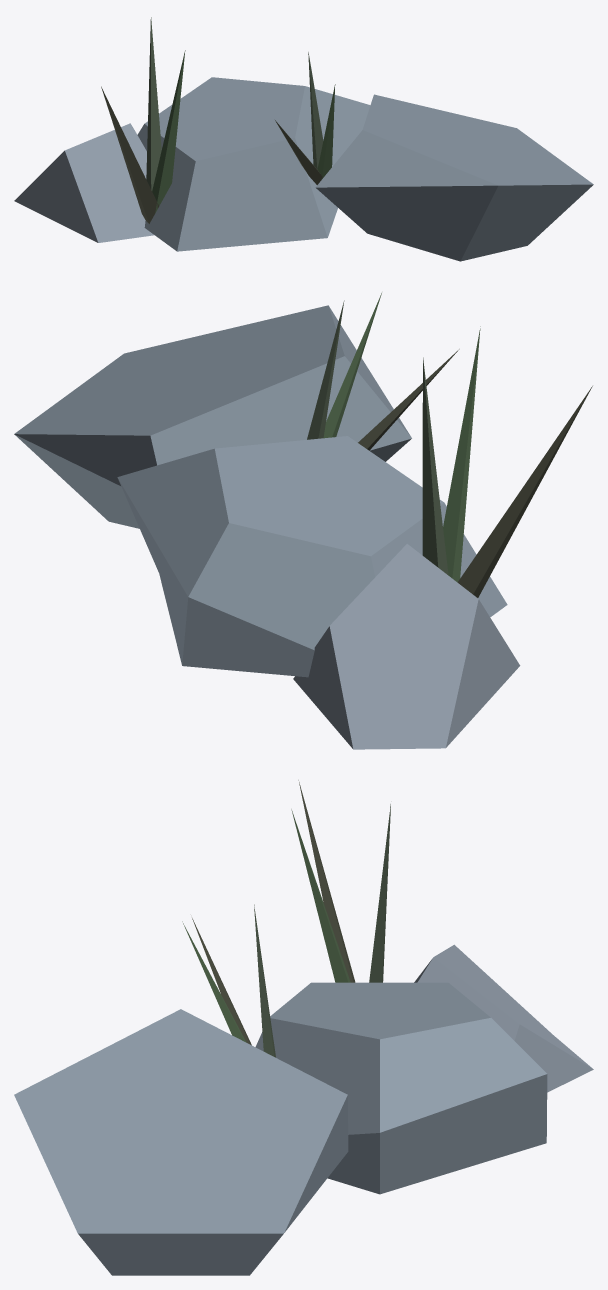
File: rocks.glb
The picture shows the model from 3 angles, top to bottom: view 1: azimuth 30°, elevation 25°; view 2: azimuth 150°, elevation 25°; view 3: azimuth 270°, elevation 25°; orthographic projection. The views are drawn at different scales.
Visible parts, largest first — view 1: Rock-pack-ver4; view 2: Rock-pack-ver4; view 3: Rock-pack-ver4.
Part boxes in pixels (x1,y1,x2,y2): Rock-pack-ver4: (14, 17, 593, 261); Rock-pack-ver4: (14, 293, 592, 749); Rock-pack-ver4: (14, 780, 593, 1275).
Bounding box in the file's own units: 1.55 × 0.7977 × 1.41.
Materials: 1 (1 with a texture image).
